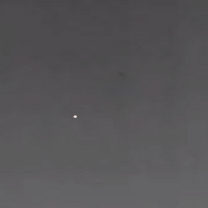Target: (72, 115, 79, 119)
